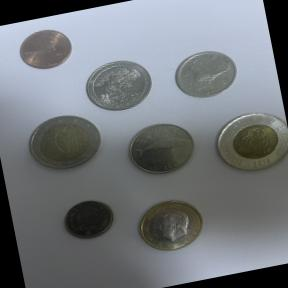1 Euro-B: (124, 188, 222, 266)
2 Euro-B: (18, 106, 107, 178)
Canada-10cent-B: (53, 188, 124, 250)
Canada-2Dollar-B: (204, 100, 288, 182)
Croatia-2Kune-B: (116, 114, 204, 184)
US-1cent-B: (5, 15, 84, 80)
US-25cent-B: (78, 52, 158, 118)
